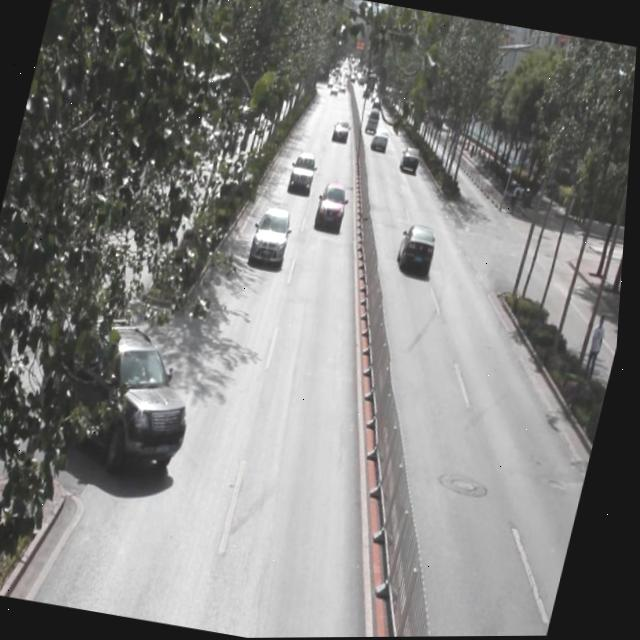car: (36, 312, 211, 484), (249, 205, 297, 269), (396, 220, 443, 280), (315, 180, 353, 233), (288, 150, 323, 195), (400, 144, 423, 174), (331, 117, 354, 144), (371, 126, 393, 151)
truck: (366, 108, 381, 135)
